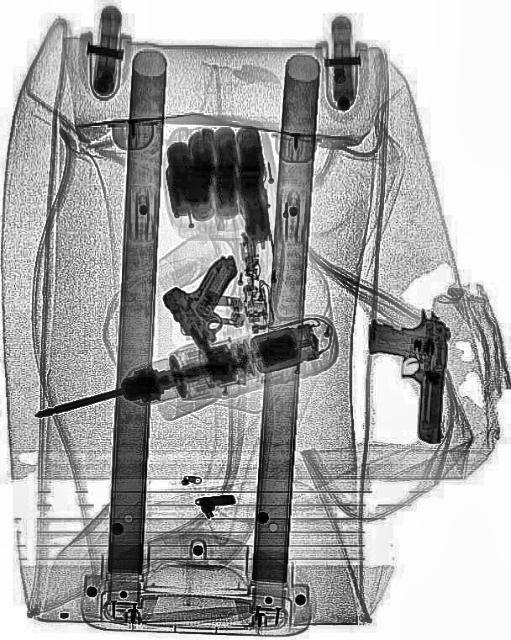Gun: (156, 236, 274, 372), (361, 305, 451, 443)
